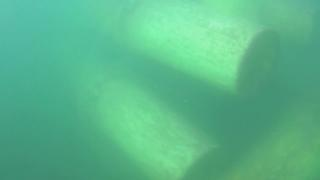pipe: (92, 1, 282, 99), (69, 62, 221, 179), (224, 108, 320, 179)
